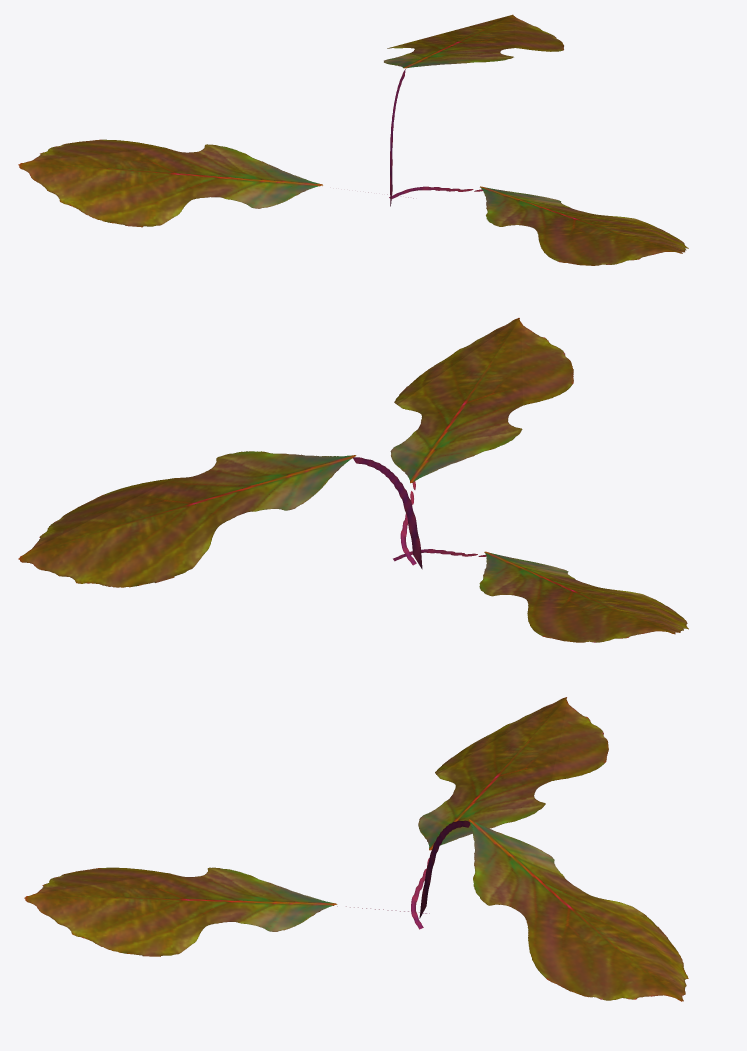
Rendered from Row Root B1.fbx.
The picture shows the model from 3 angles, top to bottom: view 1: azimuth 30°, elevation 25°; view 2: azimuth 150°, elevation 25°; view 3: azimuth 270°, elevation 25°; orthographic projection. The views are drawn at different scales.
Parts seen in each view (by area): view 1: Row Root B1; view 2: Row Root B1; view 3: Row Root B1.
Boxes of the visible parts, x1=… form: Row Root B1: x1=18, y1=14, x2=688, y2=265; Row Root B1: x1=18, y1=318, x2=688, y2=642; Row Root B1: x1=24, y1=697, x2=688, y2=1001.
Bounding box in the file's own units: 181 × 39 × 173.
